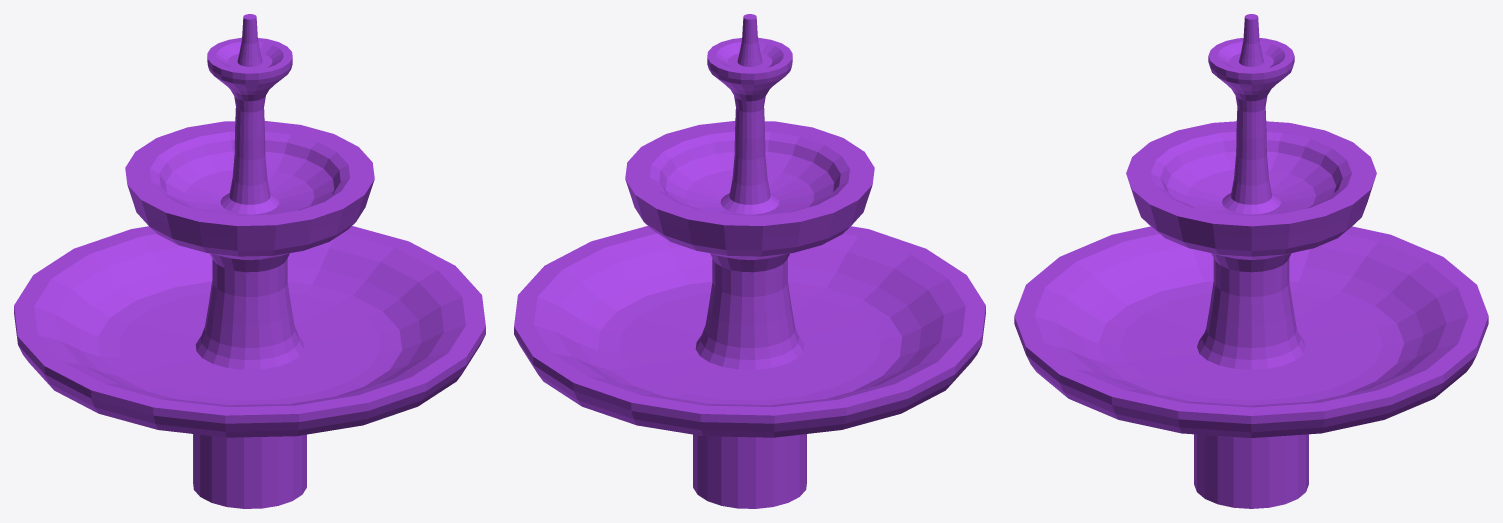
Rendered from Glass_107_chunks.fbx.
3 views of the same model, side by side, from view 1: azimuth 30°, elevation 25°; view 2: azimuth 150°, elevation 25°; view 3: azimuth 270°, elevation 25° (orthographic).
Parts seen in each view (by area): view 1: Glass_107_0, Glass_107_2, Glass_107_3, Glass_107_7, Glass_107_22, Glass_107_4, Glass_107_6, Glass_107_16, Glass_107_17, Glass_107_18, Glass_107_10, Glass_107_19 (+13 smaller); view 2: Glass_107_0, Glass_107_2, Glass_107_3, Glass_107_6, Glass_107_4, Glass_107_12, Glass_107_22, Glass_107_17, Glass_107_11, Glass_107_7, Glass_107_5, Glass_107_9 (+10 smaller); view 3: Glass_107_0, Glass_107_2, Glass_107_4, Glass_107_3, Glass_107_13, Glass_107_7, Glass_107_22, Glass_107_17, Glass_107_10, Glass_107_16, Glass_107_20, Glass_107_5 (+9 smaller).
Boxes of the visible parts, x1,y1,x2,y2 form: Glass_107_0: [181, 14, 374, 257]; Glass_107_2: [128, 226, 402, 334]; Glass_107_3: [296, 144, 485, 350]; Glass_107_7: [14, 273, 152, 354]; Glass_107_22: [207, 355, 428, 428]; Glass_107_4: [222, 121, 437, 265]; Glass_107_6: [27, 123, 210, 284]; Glass_107_16: [285, 268, 479, 396]; Glass_107_17: [193, 371, 410, 437]; Glass_107_18: [193, 448, 295, 508]; Glass_107_10: [23, 301, 175, 379]; Glass_107_19: [193, 354, 306, 498]; Glass_107_0: [660, 14, 874, 203]; Glass_107_2: [539, 292, 708, 428]; Glass_107_3: [534, 137, 711, 321]; Glass_107_6: [640, 211, 797, 436]; Glass_107_4: [514, 150, 675, 390]; Glass_107_12: [696, 270, 784, 445]; Glass_107_22: [797, 226, 962, 315]; Glass_107_17: [790, 271, 921, 334]; Glass_107_11: [704, 322, 877, 493]; Glass_107_7: [706, 255, 925, 437]; Glass_107_5: [749, 72, 873, 255]; Glass_107_9: [751, 267, 969, 397]; Glass_107_0: [1126, 14, 1294, 251]; Glass_107_2: [1233, 314, 1488, 436]; Glass_107_4: [1259, 188, 1480, 429]; Glass_107_3: [1092, 214, 1285, 437]; Glass_107_13: [1202, 305, 1306, 507]; Glass_107_7: [1320, 226, 1427, 330]; Glass_107_22: [1014, 259, 1133, 353]; Glass_107_17: [1080, 278, 1196, 356]; Glass_107_10: [1289, 246, 1388, 331]; Glass_107_16: [1025, 273, 1249, 415]; Glass_107_20: [1121, 253, 1213, 329]; Glass_107_5: [1197, 40, 1340, 177].
Size of the model in its own units: 866 by 942 by 866.
